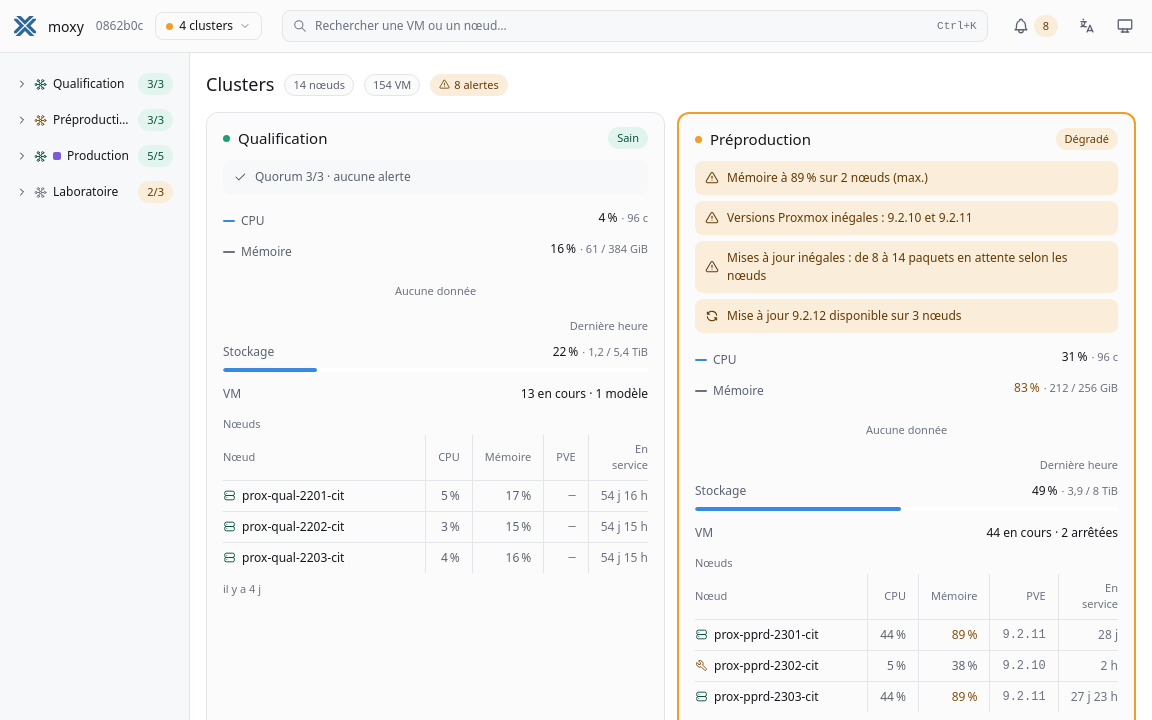
Test case: the application in light theme › has no accessibility violation on a guest
What coordinates should you click on to do the following:
click the text "Qualification"
I would click on:
 (89, 84)
Its box is top-left (53, 75), bottom-right (124, 93).
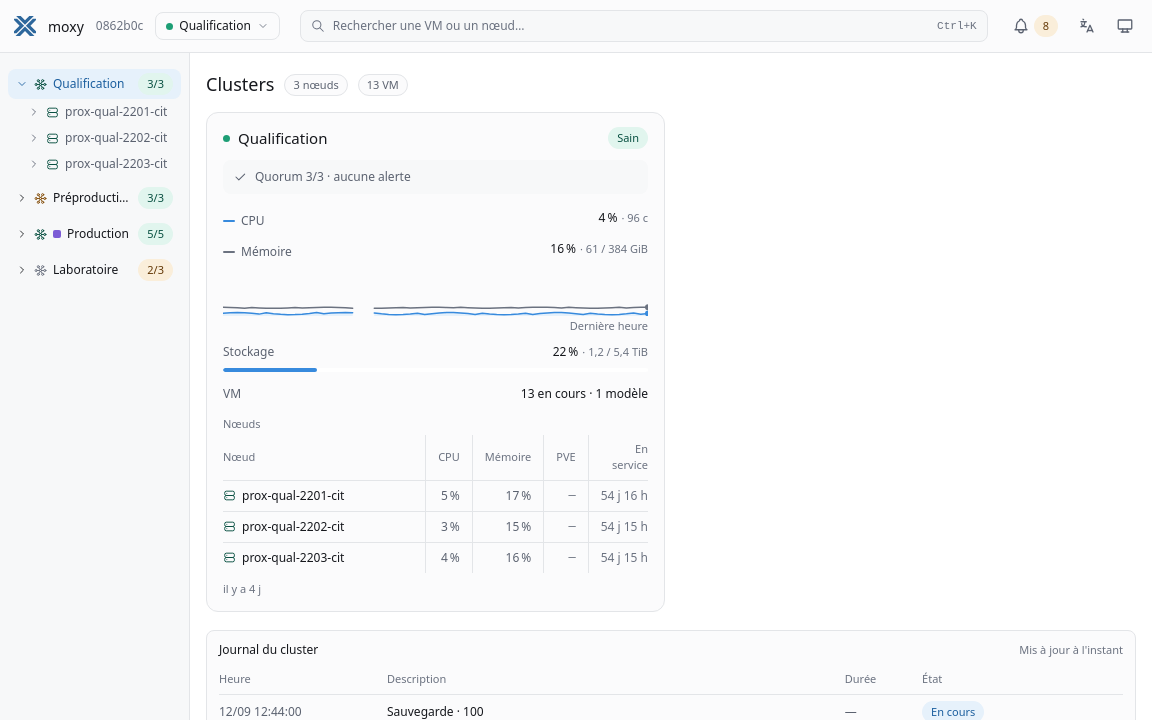
expect the text "prox-qual-2201-cit" is shown: met
What coordinates should you click on to do the following:
click the text "prox-qual-2201-cit"
I would click on:
 (116, 112)
Its box is top-left (65, 103), bottom-right (167, 121).
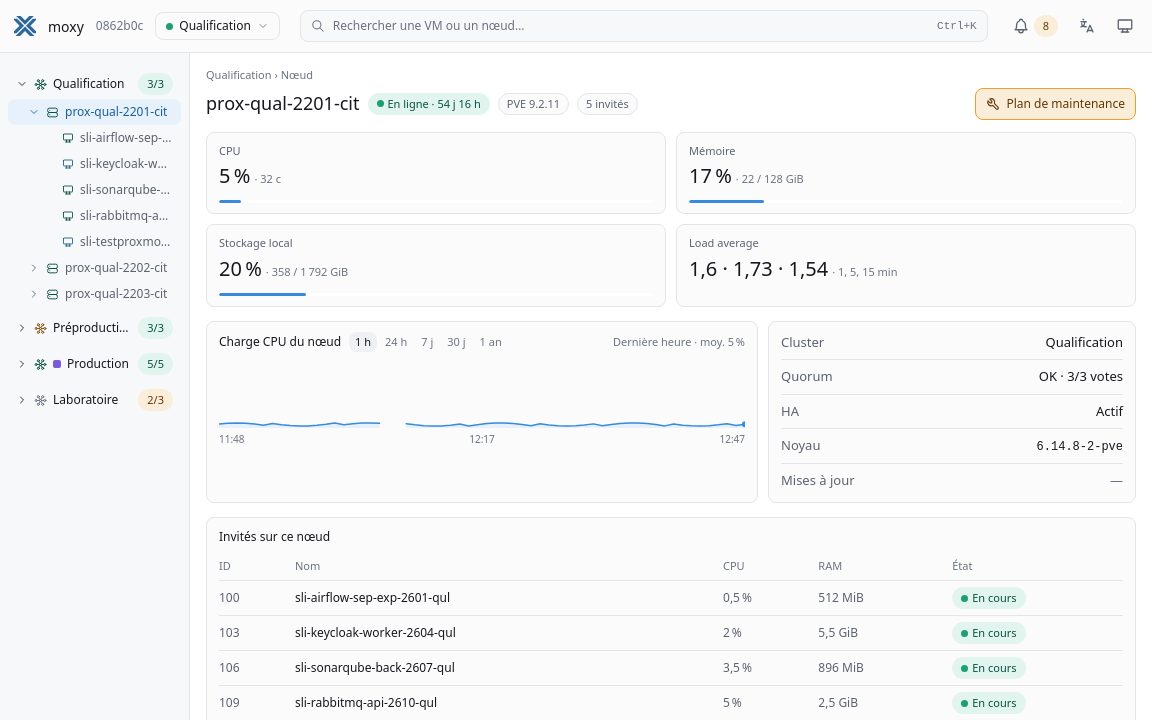
expect the text "sli-airflow-sep-exp-2601-qul" is shown: met
What coordinates should you click on to do the following:
click the text "sli-airflow-sep-exp-2601-qul"
I would click on:
 (126, 138)
Its box is top-left (80, 129), bottom-right (173, 147).
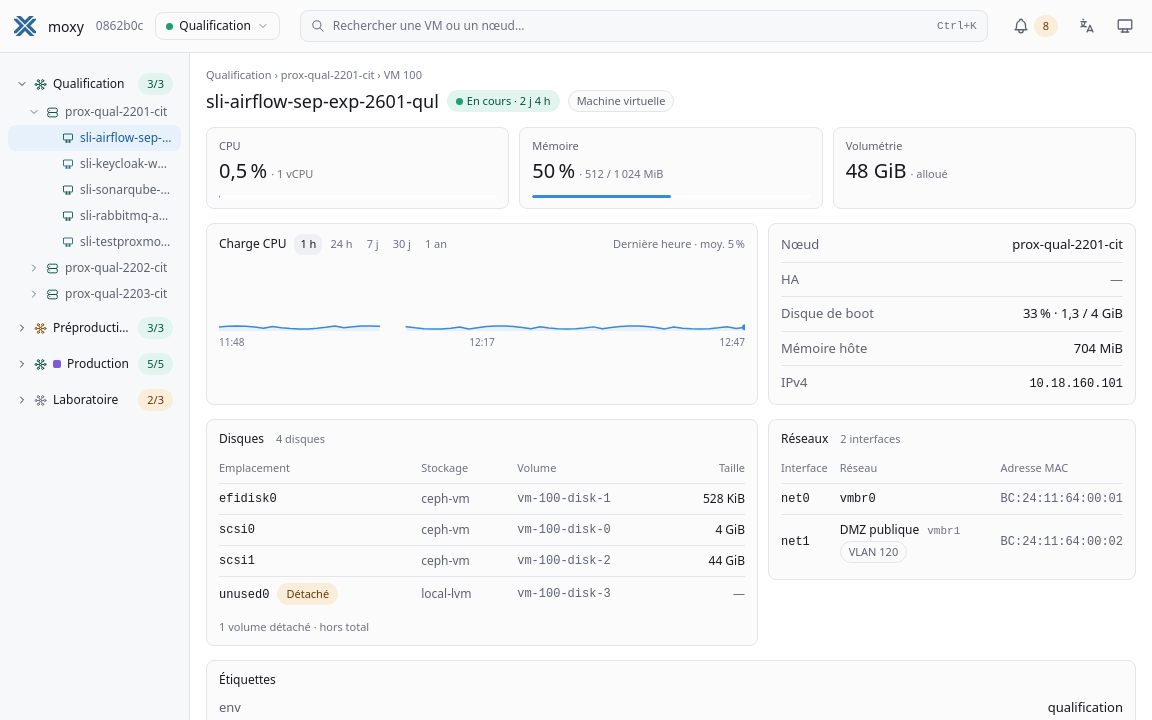
expect the heading "sli-airflow-sep-exp-2601-qul" is shown: met, box top-left (206, 88), bottom-right (439, 114)
